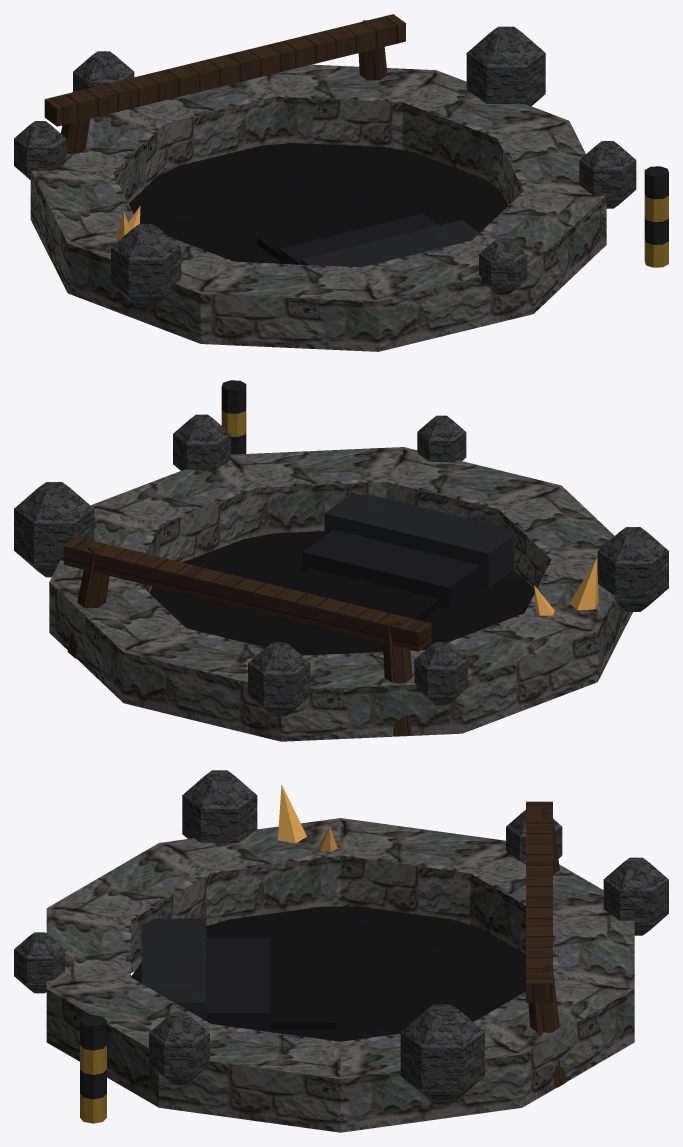
Rendered from cave_hole_01.glb.
3 renders of one model, top to bottom at view 1: azimuth 30°, elevation 25°; view 2: azimuth 150°, elevation 25°; view 3: azimuth 270°, elevation 25°, orthographic. The views are drawn at different scales.
Visible parts, largest first — view 1: cave_hole_01; view 2: cave_hole_01; view 3: cave_hole_01.
Part boxes in pixels (box(x1,y1,x2,y2)): cave_hole_01: box(14, 14, 668, 351); cave_hole_01: box(14, 380, 668, 741); cave_hole_01: box(14, 770, 668, 1132).
Bounding box in the file's own units: 2.39 × 0.4791 × 2.44.
9 materials, 9 textured.
